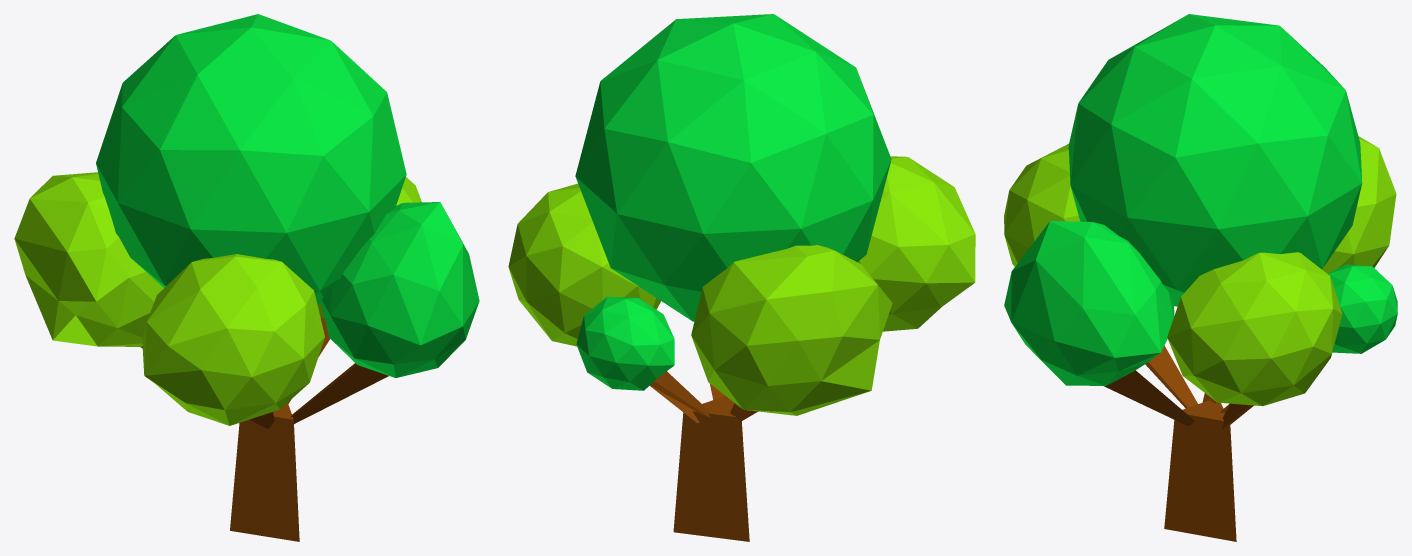
File: drvo1.fbx
3 renders of one model, left to right at view 1: azimuth 30°, elevation 25°; view 2: azimuth 150°, elevation 25°; view 3: azimuth 270°, elevation 25°, orthographic. The views are drawn at different scales.
Visible parts, largest first — view 1: drvo_3; view 2: drvo_3; view 3: drvo_3.
Boxes of the visible parts, x1,y1,x2,y2 form: drvo_3: (14, 14, 479, 541); drvo_3: (508, 14, 975, 541); drvo_3: (1004, 14, 1397, 541).
Bounding box in the file's own units: 518 × 691 × 500.
